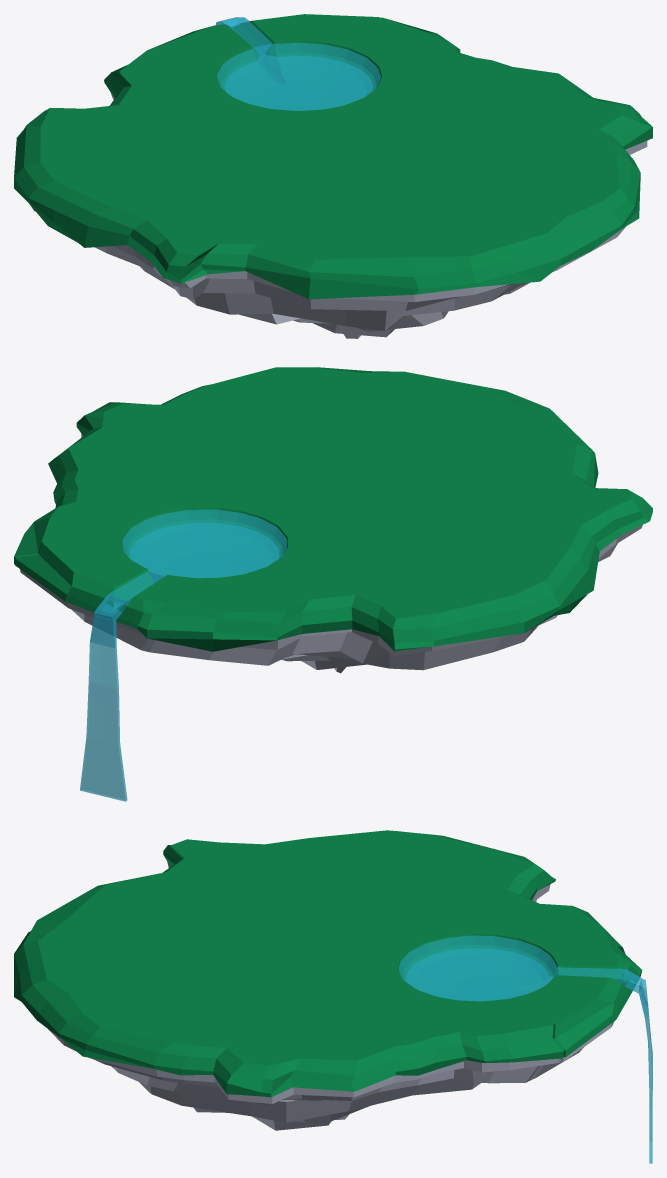
File: bornIsland.glb
The picture shows the model from 3 angles, top to bottom: view 1: azimuth 30°, elevation 25°; view 2: azimuth 150°, elevation 25°; view 3: azimuth 270°, elevation 25°; orthographic projection. The views are drawn at different scales.
Parts seen in each view (by area): view 1: bornIsland; view 2: bornIsland; view 3: bornIsland.
Boxes of the visible parts, x1=… form: bornIsland: x1=14, y1=14, x2=652, y2=338; bornIsland: x1=14, y1=367, x2=652, y2=801; bornIsland: x1=14, y1=830, x2=652, y2=1163.
Size of the model in its own units: 4.46 by 1.46 by 4.69.
